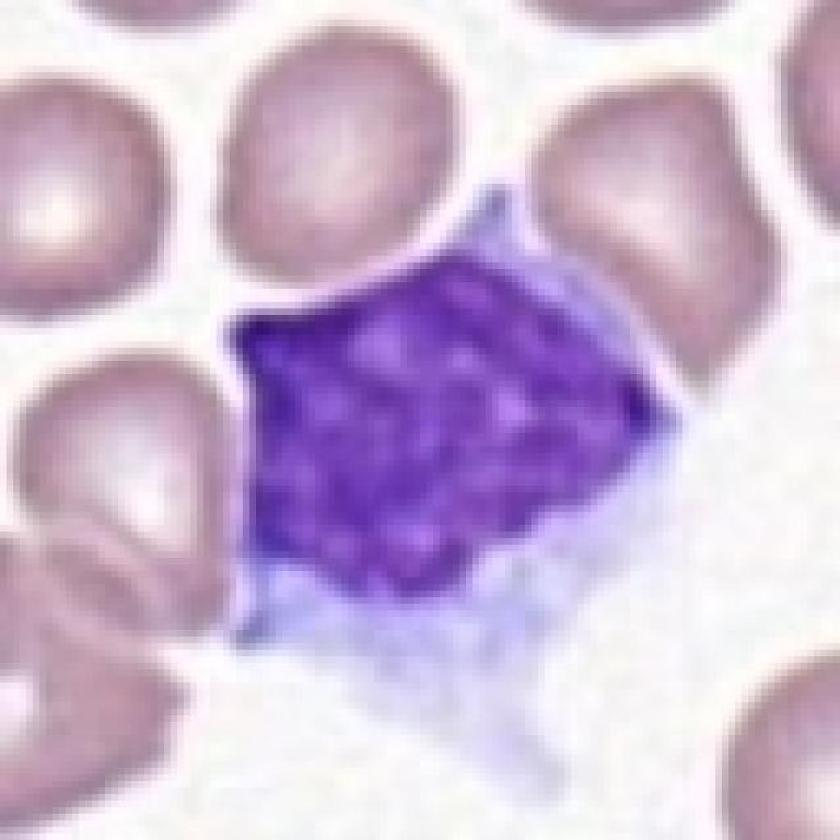lymphocyte: (215, 180, 689, 812)
